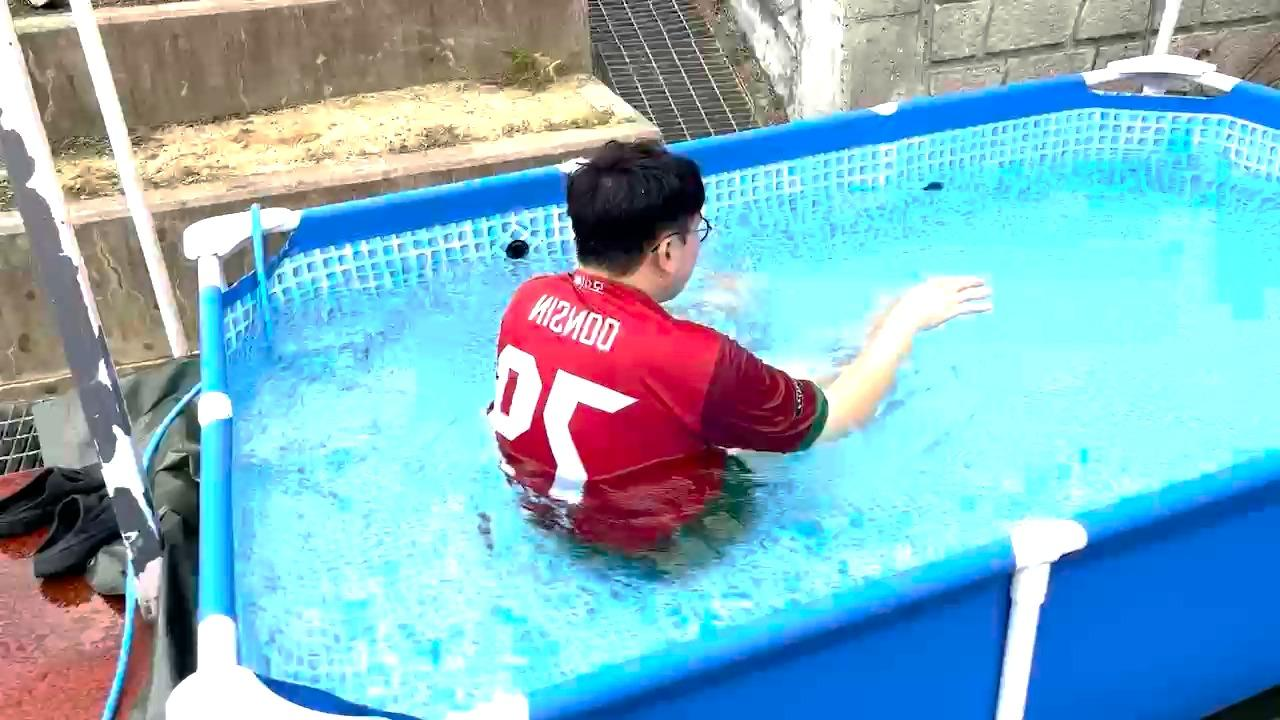Swimming: (435, 85, 1061, 606)
